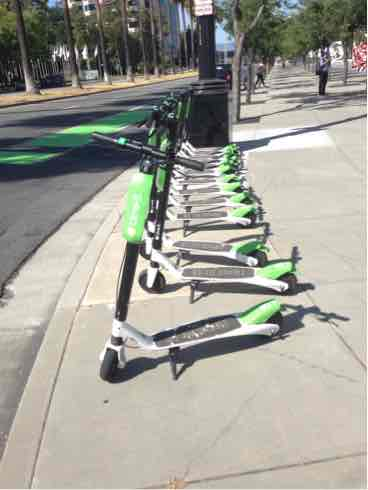scooter: (102, 104, 297, 380), (113, 94, 305, 282)
